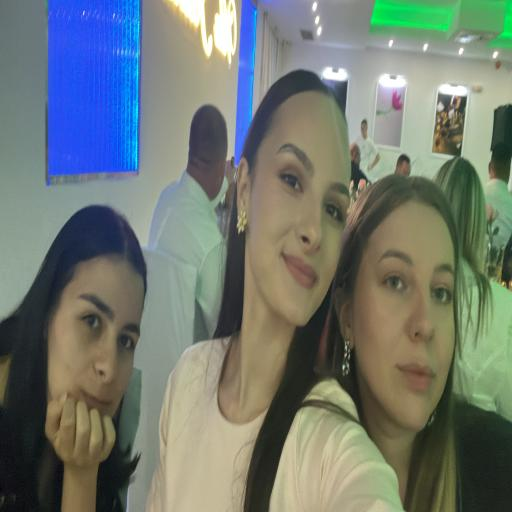marija: (248, 84, 353, 318)
